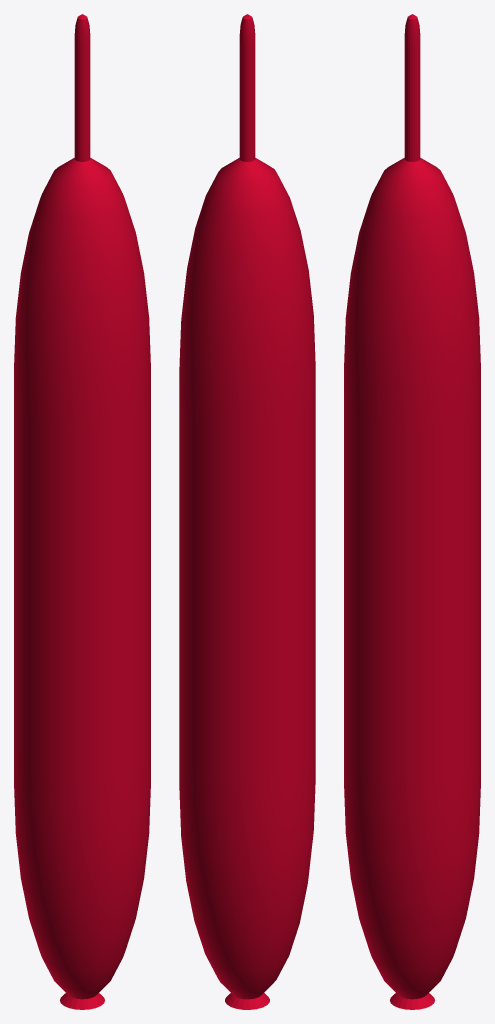
The model's file is Balloon4.fbx.
3 views of the same model, side by side, from view 1: azimuth 90°, elevation 25°; view 2: azimuth 150°, elevation 25°; view 3: azimuth 270°, elevation 25° (orthographic).
Parts seen in each view (by area): view 1: pCylinder1; view 2: pCylinder1; view 3: pCylinder1.
Part boxes in pixels (x1,y1,x2,y2): pCylinder1: (14,14,150,1009); pCylinder1: (179,14,315,1009); pCylinder1: (344,14,480,1009).
Size of the model in its own units: 0.0101 by 0.0803 by 0.0101.
